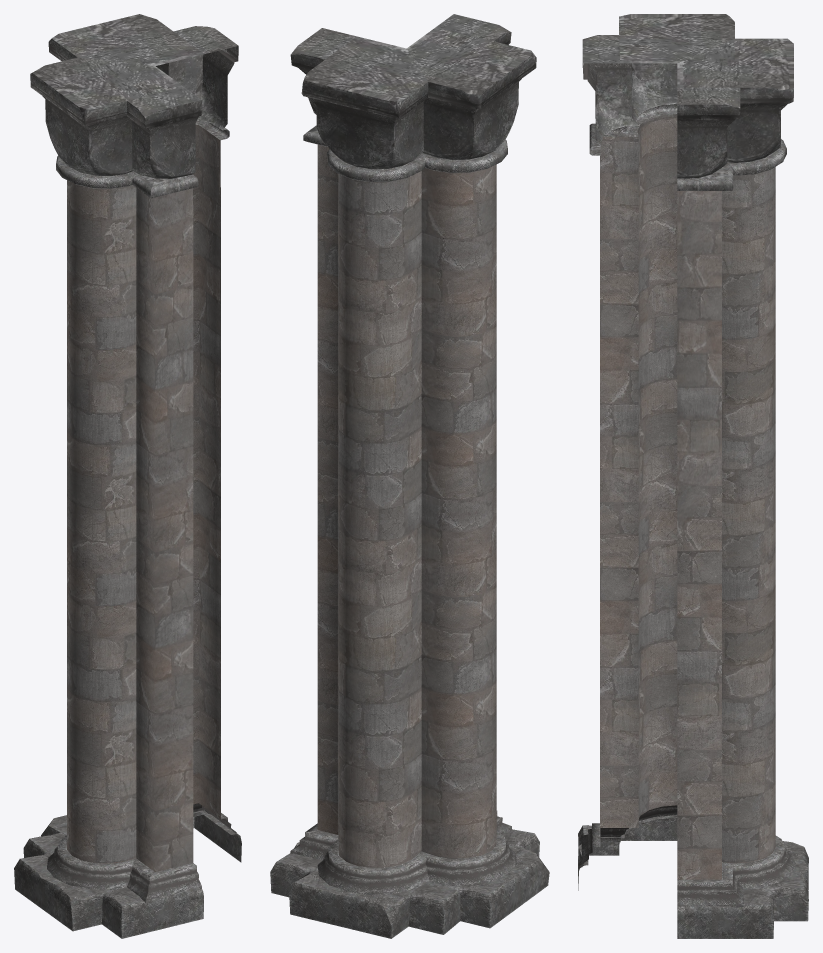
3 views of the same model, side by side, from view 1: azimuth 30°, elevation 25°; view 2: azimuth 150°, elevation 25°; view 3: azimuth 270°, elevation 25° (orthographic).
Visible parts, largest first — view 1: SM_Dungeon_RoomOffsetColumn_LOD0; view 2: SM_Dungeon_RoomOffsetColumn_LOD0; view 3: SM_Dungeon_RoomOffsetColumn_LOD0.
Boxes of the visible parts, <box> form: SM_Dungeon_RoomOffsetColumn_LOD0: <box>14,14,241,938</box>; SM_Dungeon_RoomOffsetColumn_LOD0: <box>270,14,549,938</box>; SM_Dungeon_RoomOffsetColumn_LOD0: <box>578,14,808,938</box>.
Size of the model in its own units: 1.52 by 6 by 1.51.
2 materials, 2 textured.
